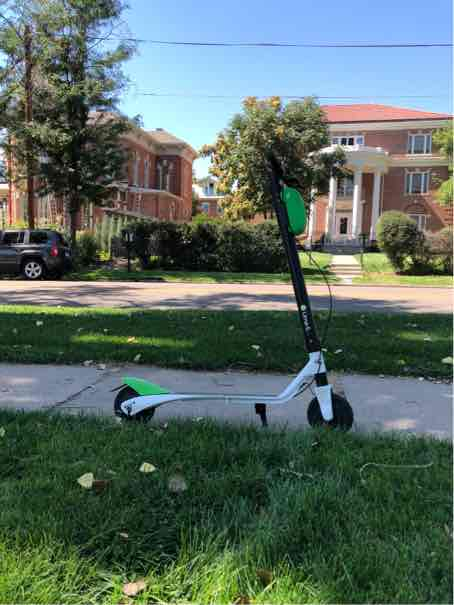scooter: (103, 97, 360, 442)
